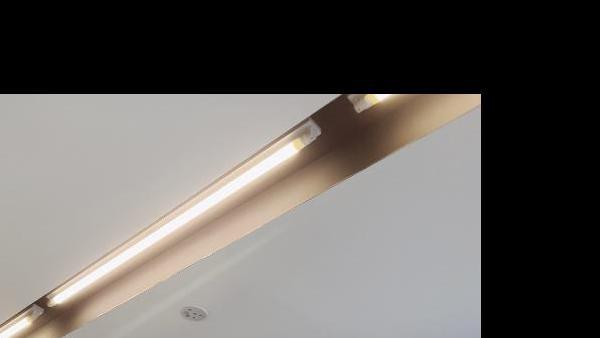light_on: (45, 112, 328, 313), (338, 94, 407, 124), (0, 294, 46, 338)
